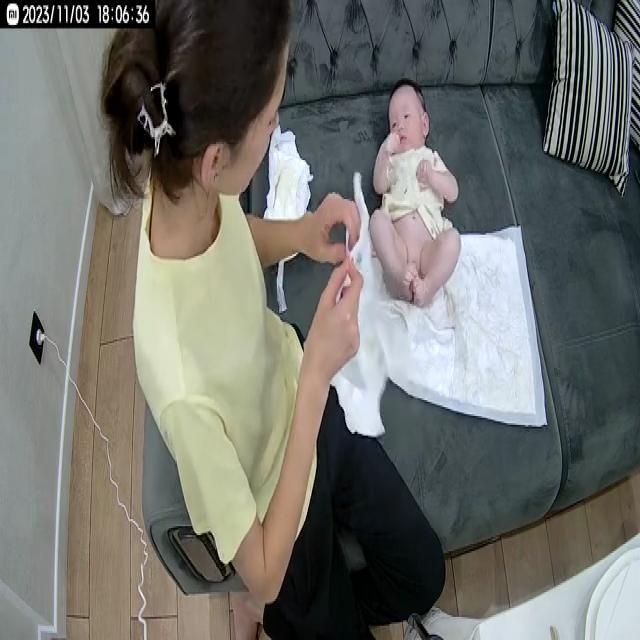baby: (364, 79, 464, 312)
